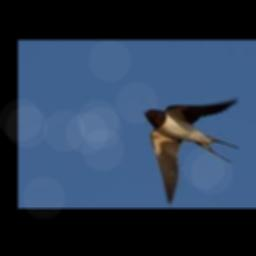Swallow: (144, 98, 240, 205)
